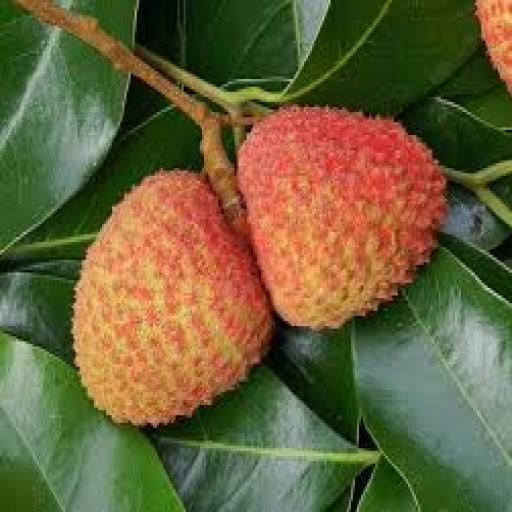lychee: (74, 171, 271, 425), (239, 107, 446, 328), (478, 0, 511, 91)
